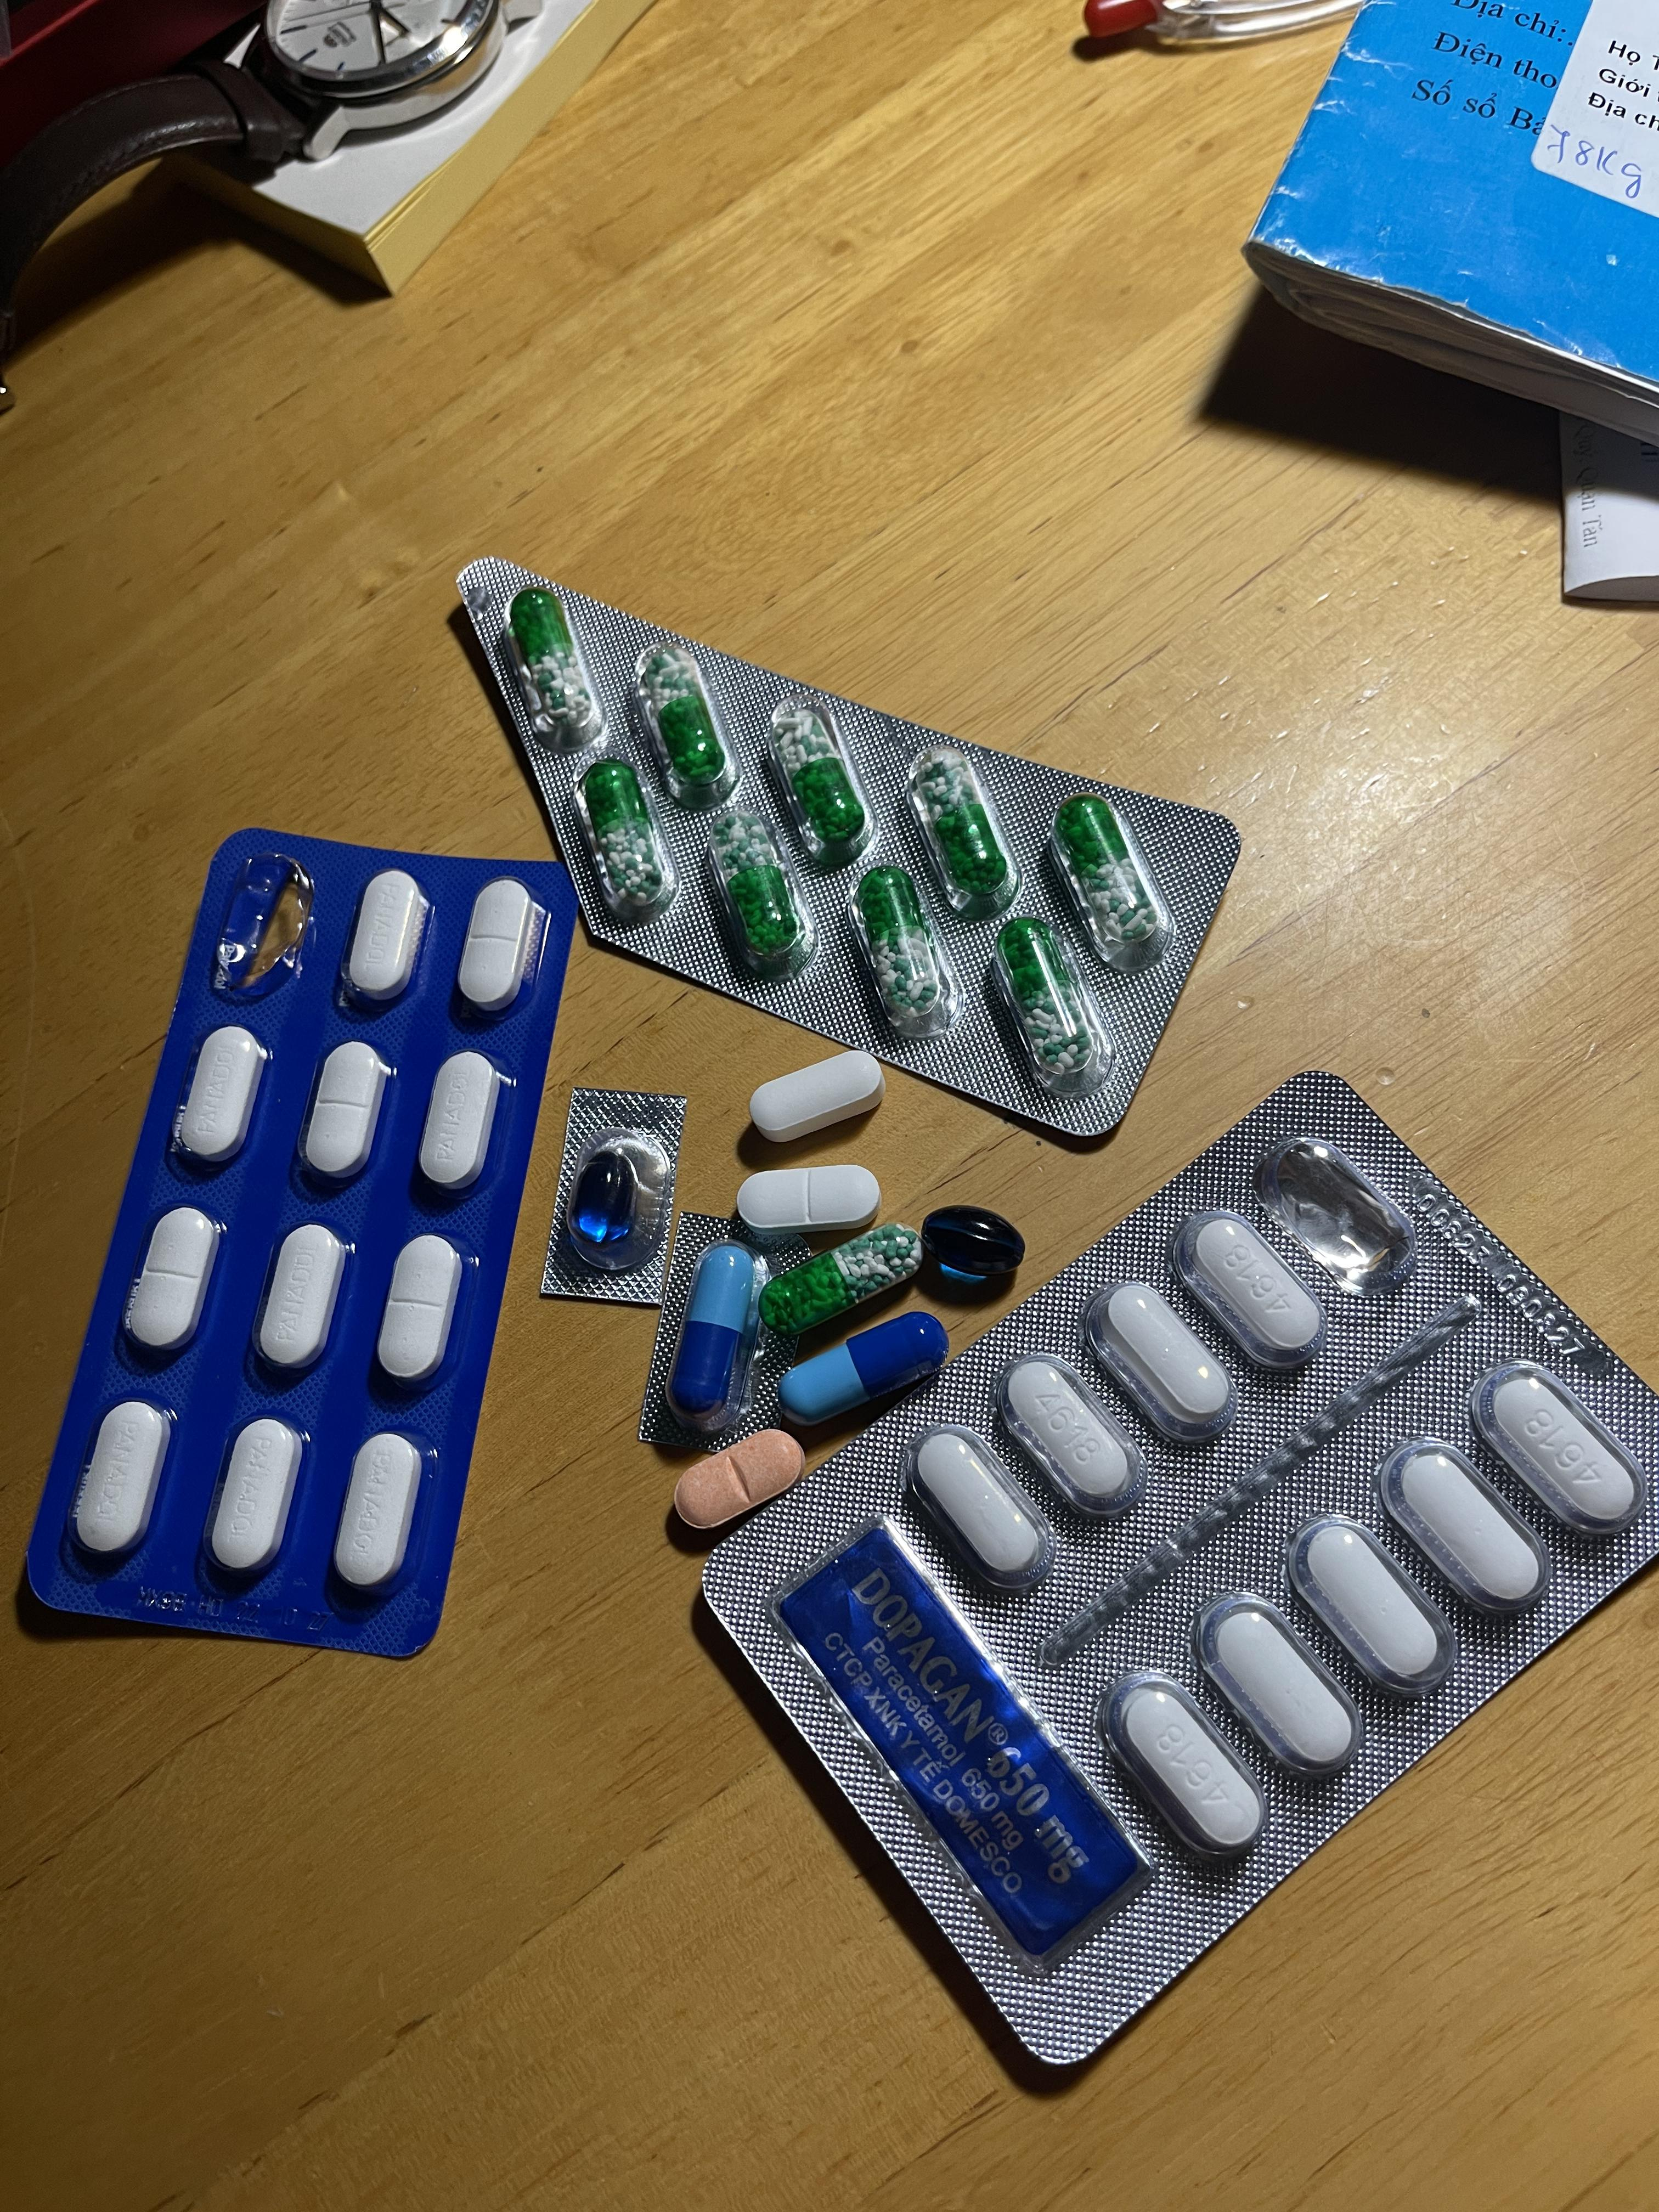Lincomyxin_500mg: (920, 1204, 1026, 1296), (570, 1151, 636, 1242)
Loratadine_10mg: (673, 1425, 798, 1526)
Paracetamol_350mg: (73, 1400, 169, 1561), (209, 1416, 303, 1575), (129, 1202, 221, 1353), (173, 1028, 267, 1174), (256, 1224, 347, 1374), (335, 1435, 422, 1590), (376, 1235, 460, 1388), (303, 1042, 392, 1181), (418, 1052, 505, 1190), (457, 880, 542, 1015), (347, 871, 430, 1003), (741, 1167, 878, 1244)
Paracetamol_500mg: (1288, 1512, 1459, 1700), (1100, 1670, 1263, 1865), (1375, 1435, 1549, 1618), (904, 1425, 1056, 1592), (1169, 1207, 1321, 1371), (1208, 1604, 1351, 1771), (1082, 1284, 1229, 1446), (1495, 1374, 1633, 1524), (995, 1353, 1131, 1503), (748, 1052, 885, 1141)
Paracetamol_650mg: (760, 1223, 918, 1334), (852, 866, 948, 1033), (509, 589, 603, 747), (1053, 798, 1152, 948), (995, 921, 1089, 1078), (911, 751, 1007, 904), (708, 799, 798, 958), (779, 697, 866, 850), (582, 761, 671, 909), (641, 650, 728, 798)
pill: (782, 1312, 945, 1433), (666, 1245, 758, 1423)
